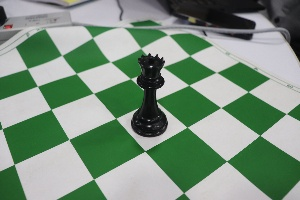black_queen: (125, 40, 171, 138)
